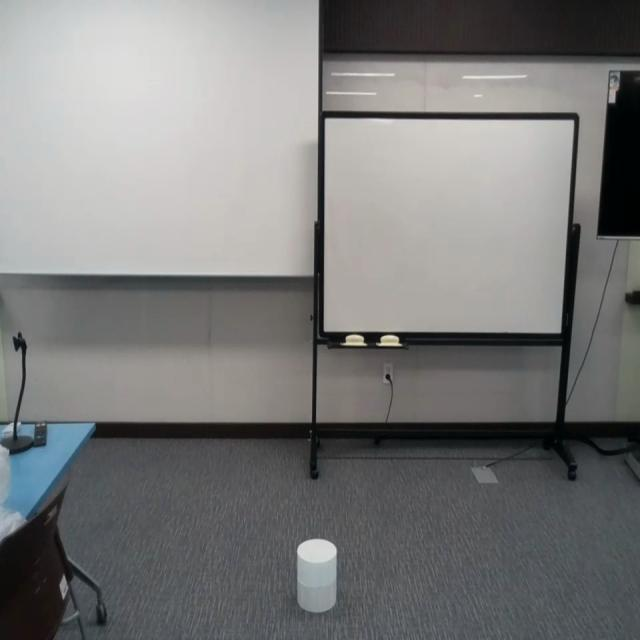cylinder: (296, 538, 338, 613)
